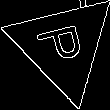P_E: (34, 21, 92, 70)
